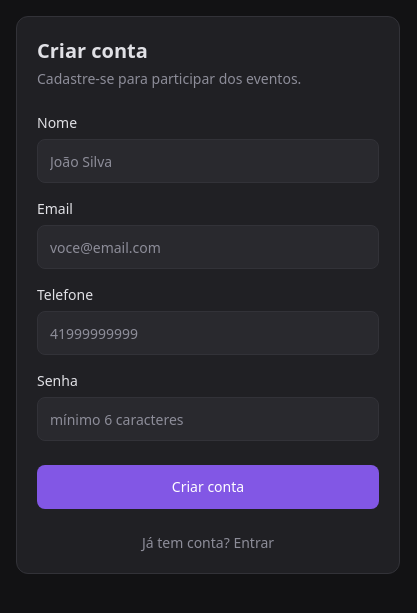
it: Cadastro de participante › bloqueia o envio quando o email é inválido
Type "Ana" into the field labelled "Nome". click: (208,161)
box: [37,139,379,183]
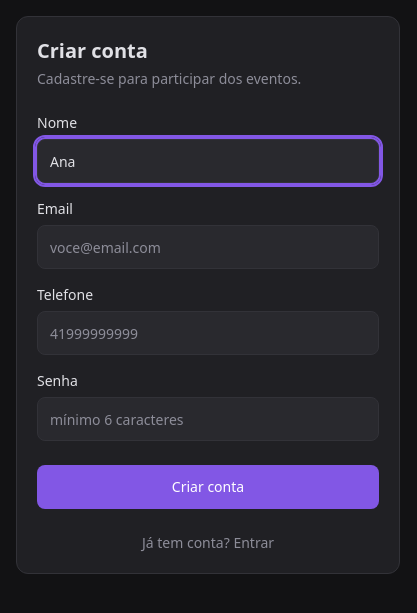
Type "email-invalido" into the field labelled "Email". click: (208,247)
box: [37,225,379,269]
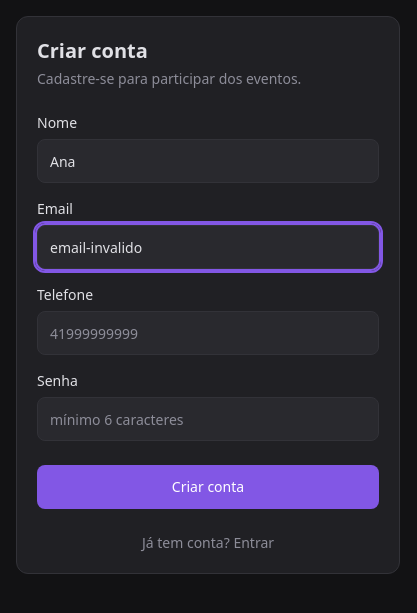
Type "41999990000" into the field labelled "Telefone". click: (208,333)
box: [37,311,379,355]
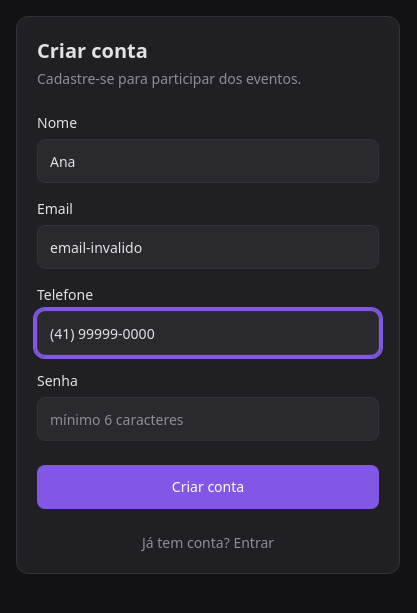
Type "senha123" into the password field labelled "Senha". click: (208,419)
box: [37,397,379,441]
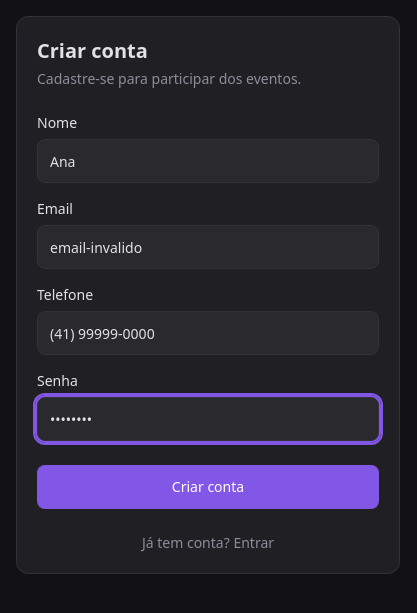
Click the button "Criar conta". click: (208,487)
box: [37,465,379,509]
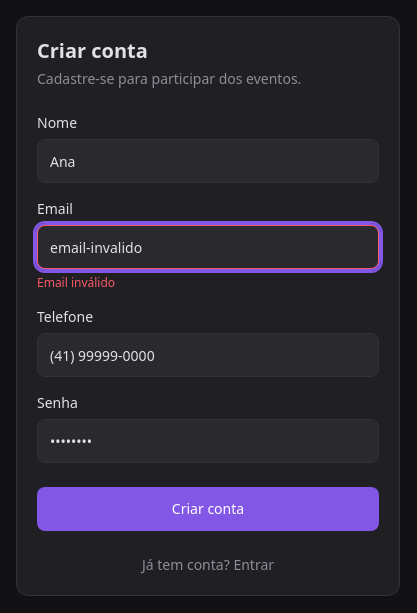
Expected: the text "Email inválido" is shown, [37,274,115,291]
